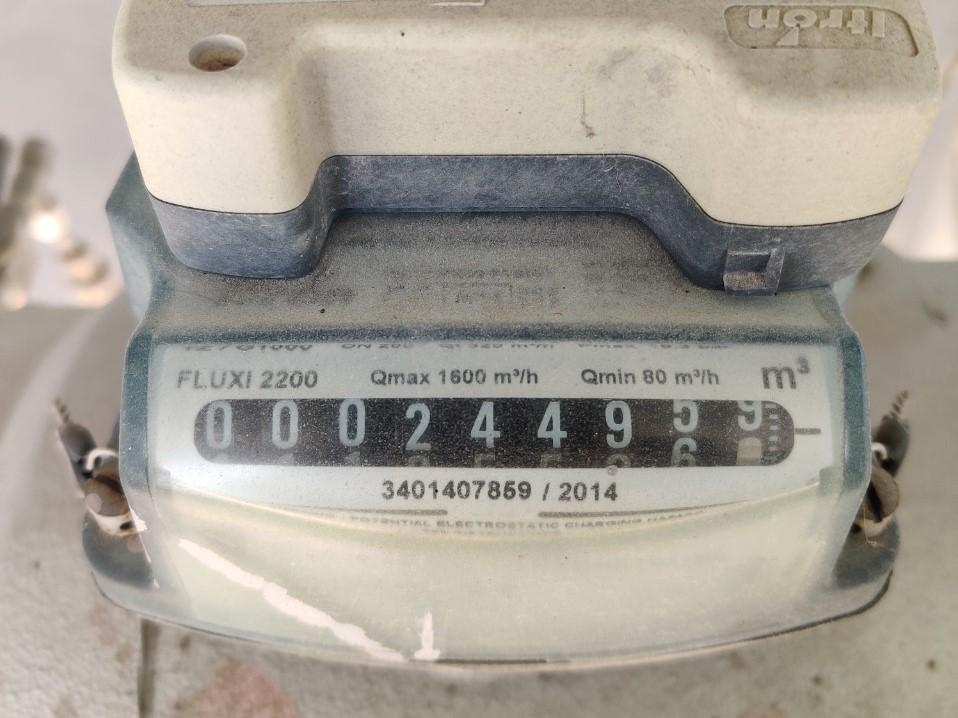analog_dial: (188, 388, 820, 476)
